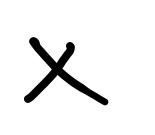mult: (24, 36, 109, 106)
